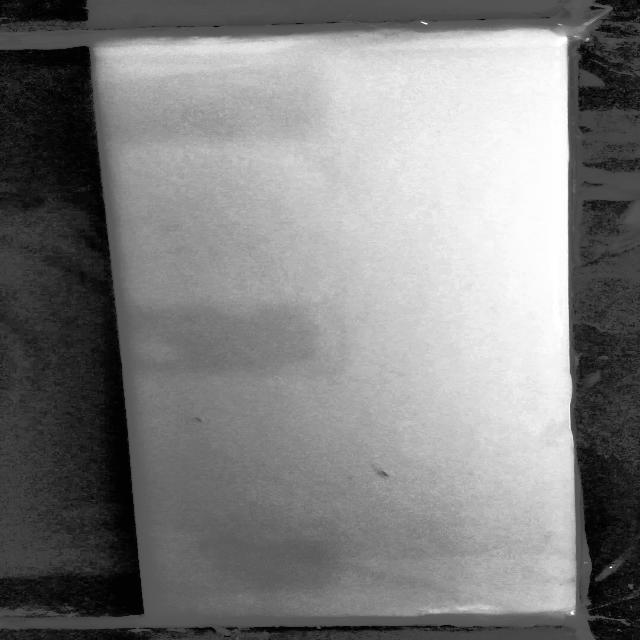shrimp: (369, 458, 394, 479), (185, 411, 211, 426)
